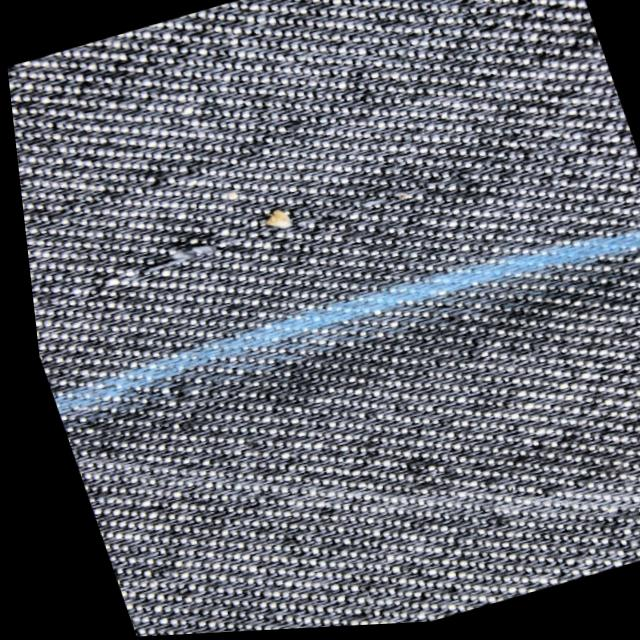Hole: (133, 203, 321, 273)
